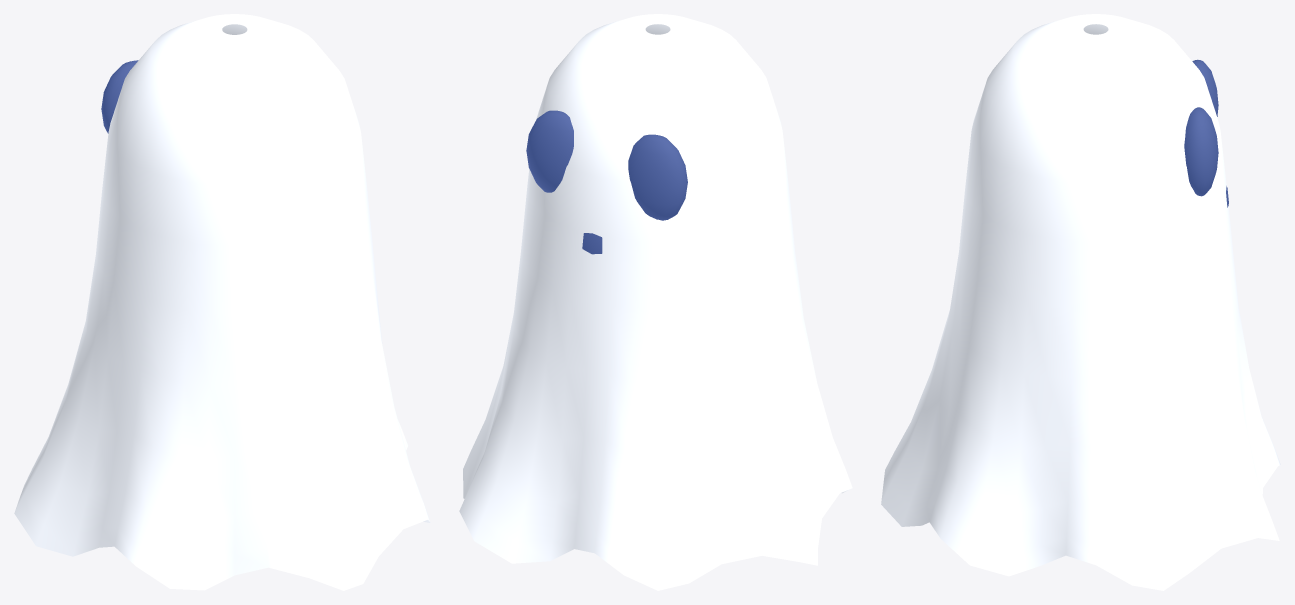
File: sheet_ghost.glb
3 renders of one model, left to right at view 1: azimuth 30°, elevation 25°; view 2: azimuth 150°, elevation 25°; view 3: azimuth 270°, elevation 25°, orthographic.
Parts seen in each view (by area): view 1: SheetGhost, EyeL; view 2: SheetGhost, EyeL, EyeR; view 3: SheetGhost, EyeR.
Boxes of the visible parts, left/top/right/bottom form: SheetGhost: left=14, top=14, right=430, bottom=590; EyeL: left=101, top=60, right=138, bottom=133; SheetGhost: left=459, top=14, right=852, bottom=590; EyeL: left=628, top=134, right=687, bottom=220; EyeR: left=526, top=110, right=573, bottom=192; SheetGhost: left=881, top=14, right=1280, bottom=590; EyeR: left=1184, top=107, right=1218, bottom=196.
Bounding box in the file's own units: 0.992 × 1.28 × 0.9627.
